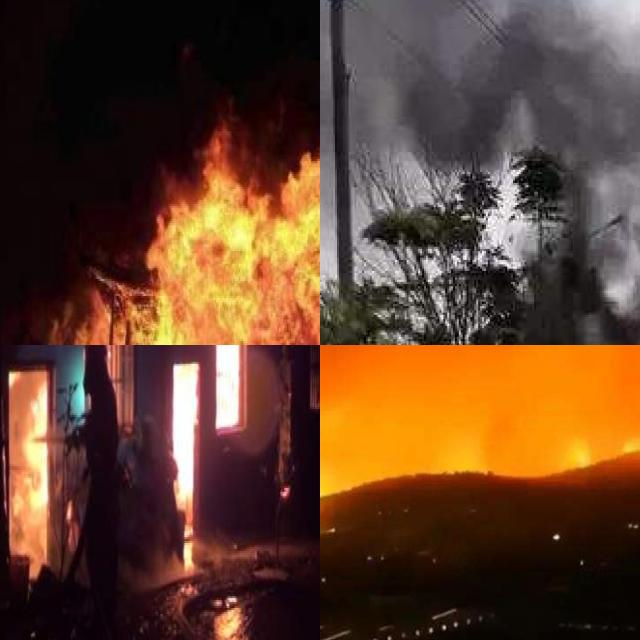fire: (67, 116, 320, 345), (450, 376, 640, 469), (6, 364, 48, 572), (172, 364, 196, 523), (213, 345, 240, 424)
smoke: (320, 0, 640, 345), (320, 345, 640, 412)
